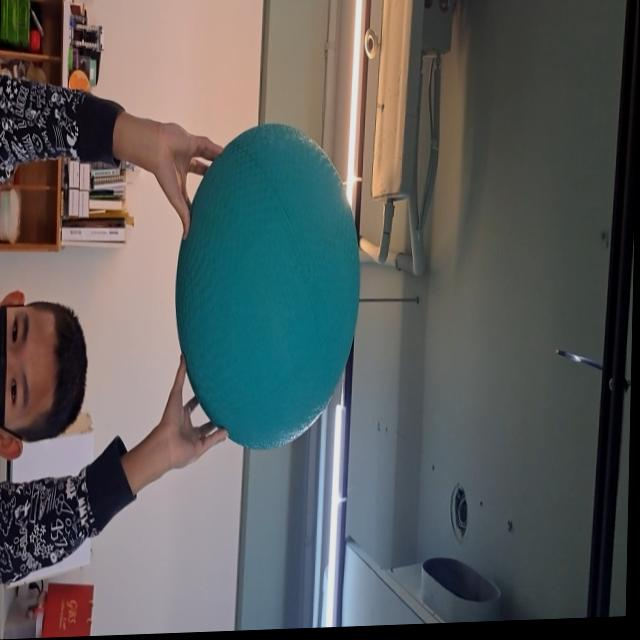ALGAE: (172, 123, 363, 454)
